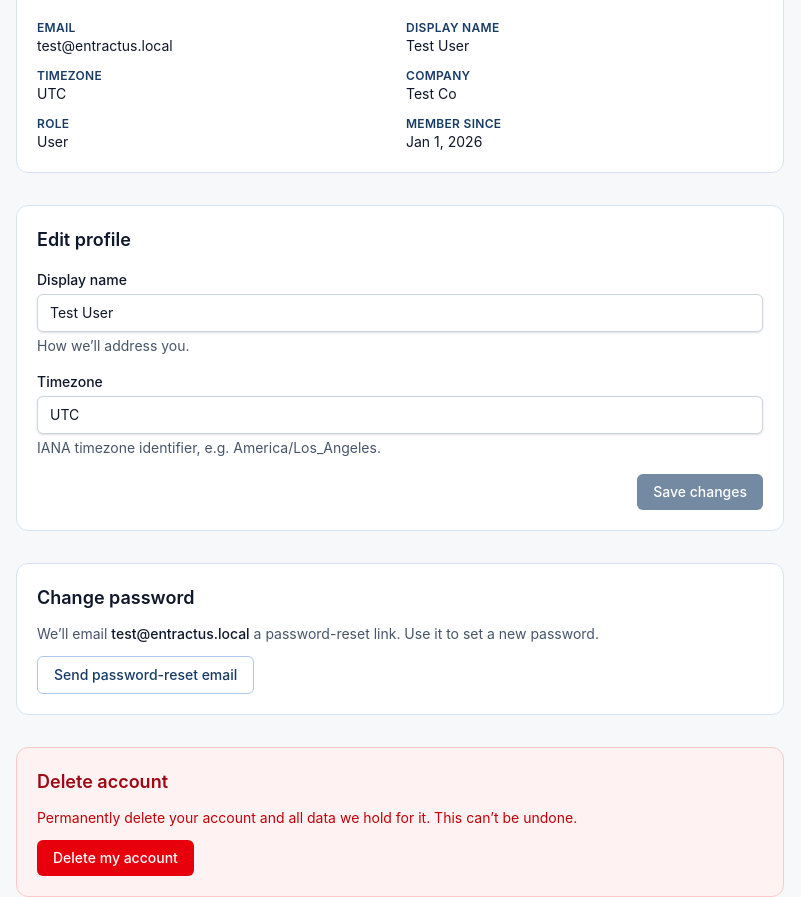
<AccountPage /> — delete account › surfaces a DELETE error inline
(page scrolled)
What coordinates should you click on to do the following:
click the button "Delete my account"
I would click on:
 (115, 858)
Its box is [37,840,194,876].
(page scrolled)
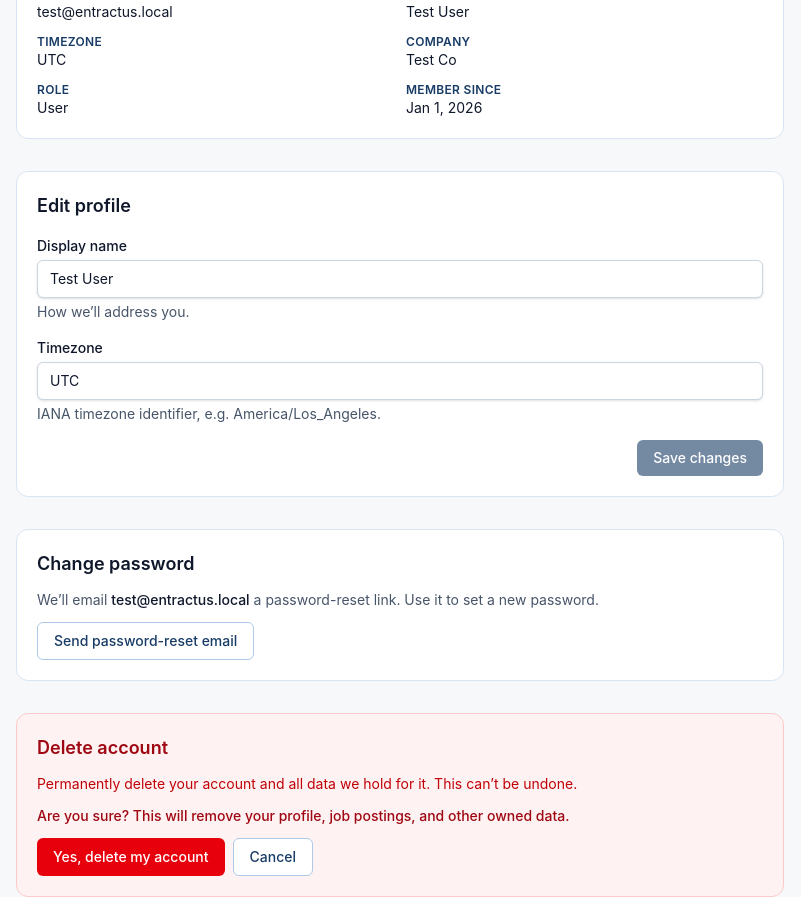
What coordinates should you click on to do the following:
click the button "Yes, delete my account"
I would click on:
 (131, 857)
Its box is [37,838,224,876].
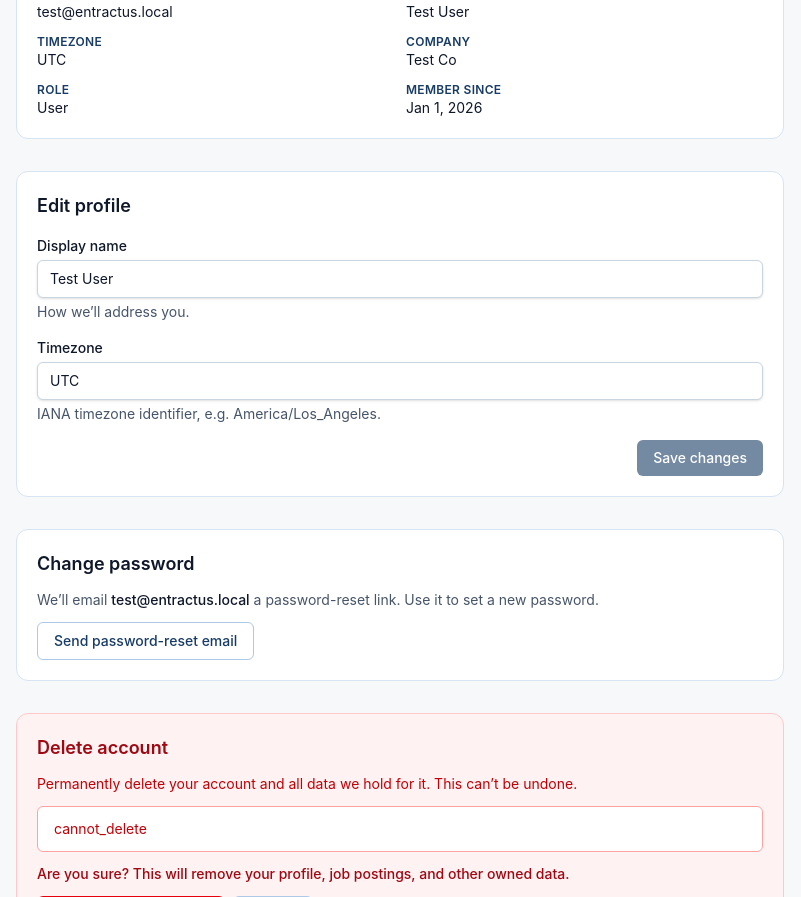
Check: the message reads "cannot_delete", box [54,820,147,837]
